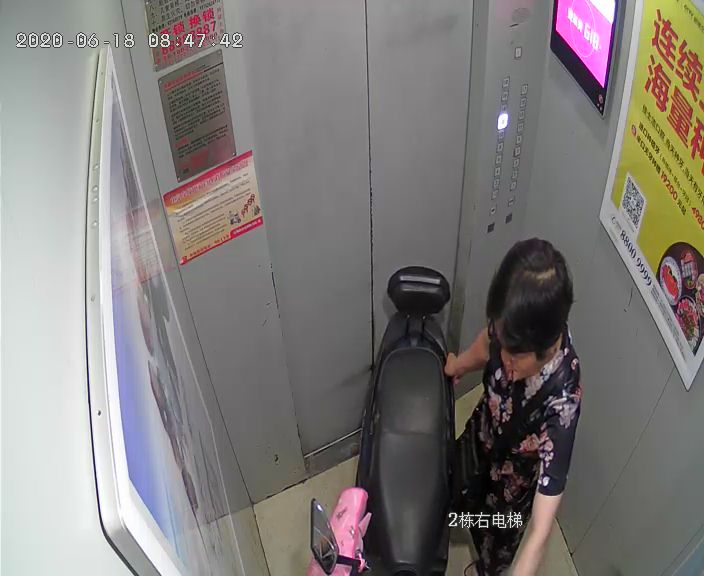Electric-bicycle: (310, 262, 456, 574)
